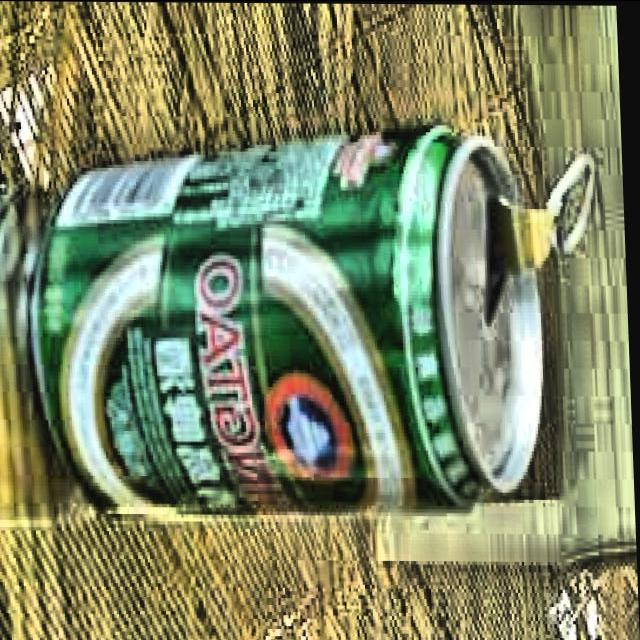Aluminum Can: (14, 105, 632, 536)
